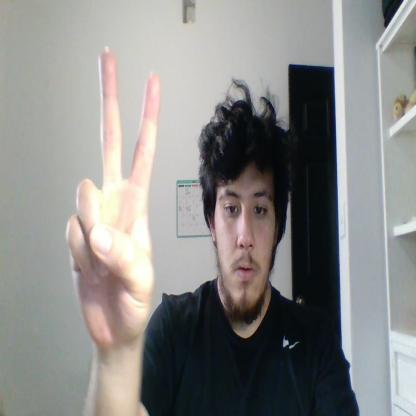V: (66, 46, 161, 350)
